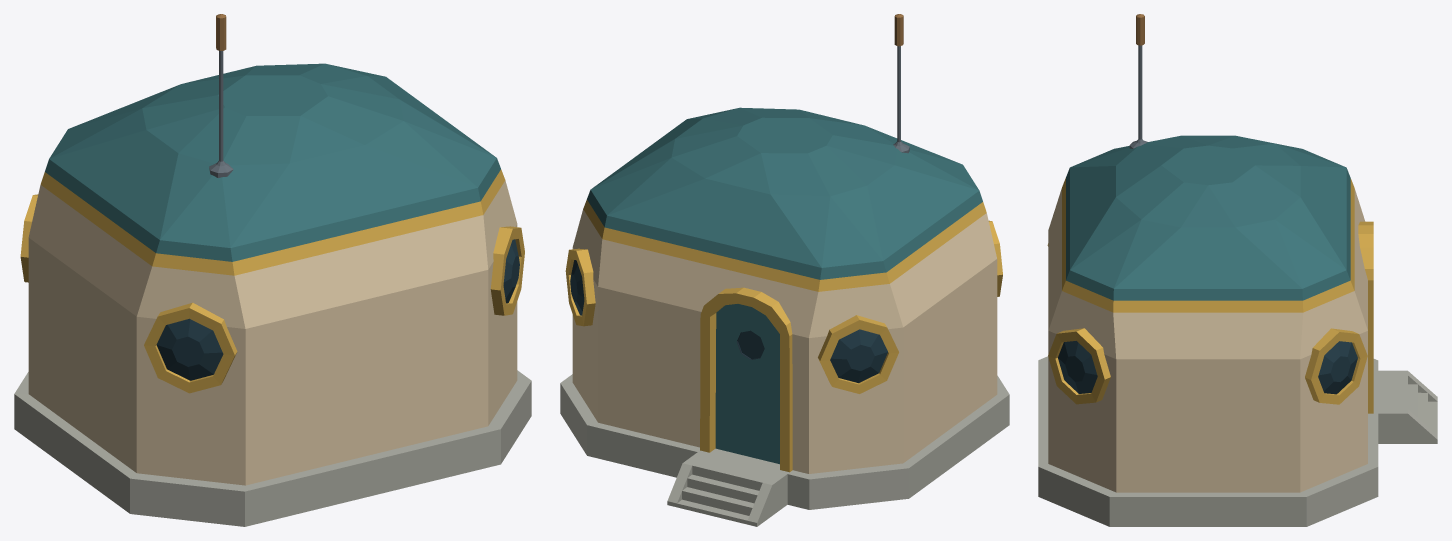
3 renders of one model, left to right at view 1: azimuth 30°, elevation 25°; view 2: azimuth 150°, elevation 25°; view 3: azimuth 270°, elevation 25°, orthographic. The views are drawn at different scales.
Parts seen in each view (by area): view 1: house_01; view 2: house_01; view 3: house_01.
Boxes of the visible parts, bbox=[...] form: house_01: bbox=[14, 14, 531, 526]; house_01: bbox=[560, 14, 1009, 526]; house_01: bbox=[1038, 14, 1437, 526].
Size of the model in its own units: 4.93 by 5.4 by 4.99.
Materials: 1 (1 with a texture image).
